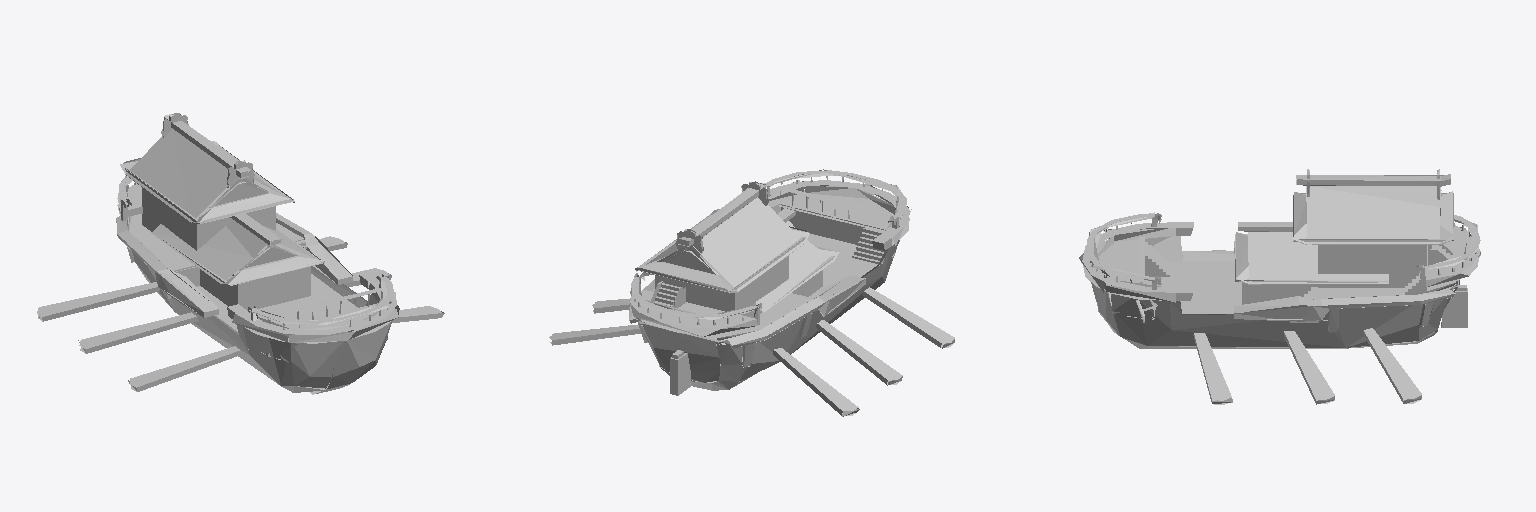
The model's file is palanquin-collision.obj.
3 renders of one model, left to right at view 1: azimuth 30°, elevation 25°; view 2: azimuth 150°, elevation 25°; view 3: azimuth 270°, elevation 25°, orthographic.
Bounding box in the file's own units: 32.22 × 16.85 × 36.29.